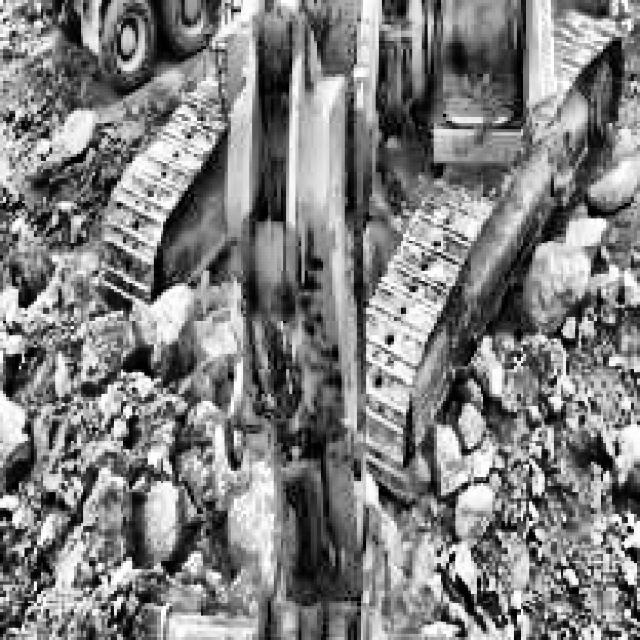dump_truck: (0, 0, 323, 95)
excavator: (95, 0, 631, 640)
